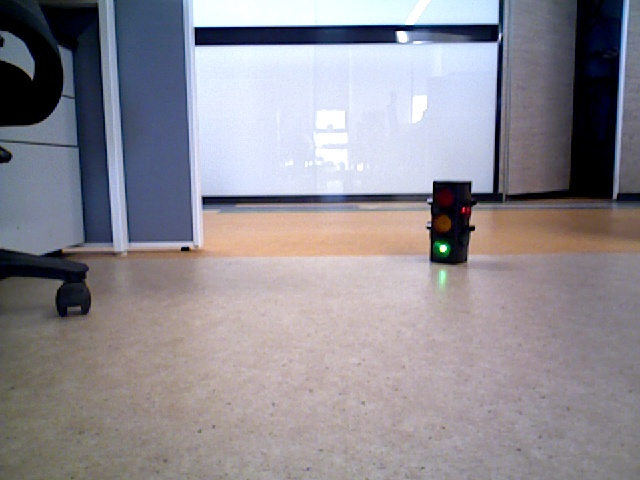green: (433, 182, 465, 257)
